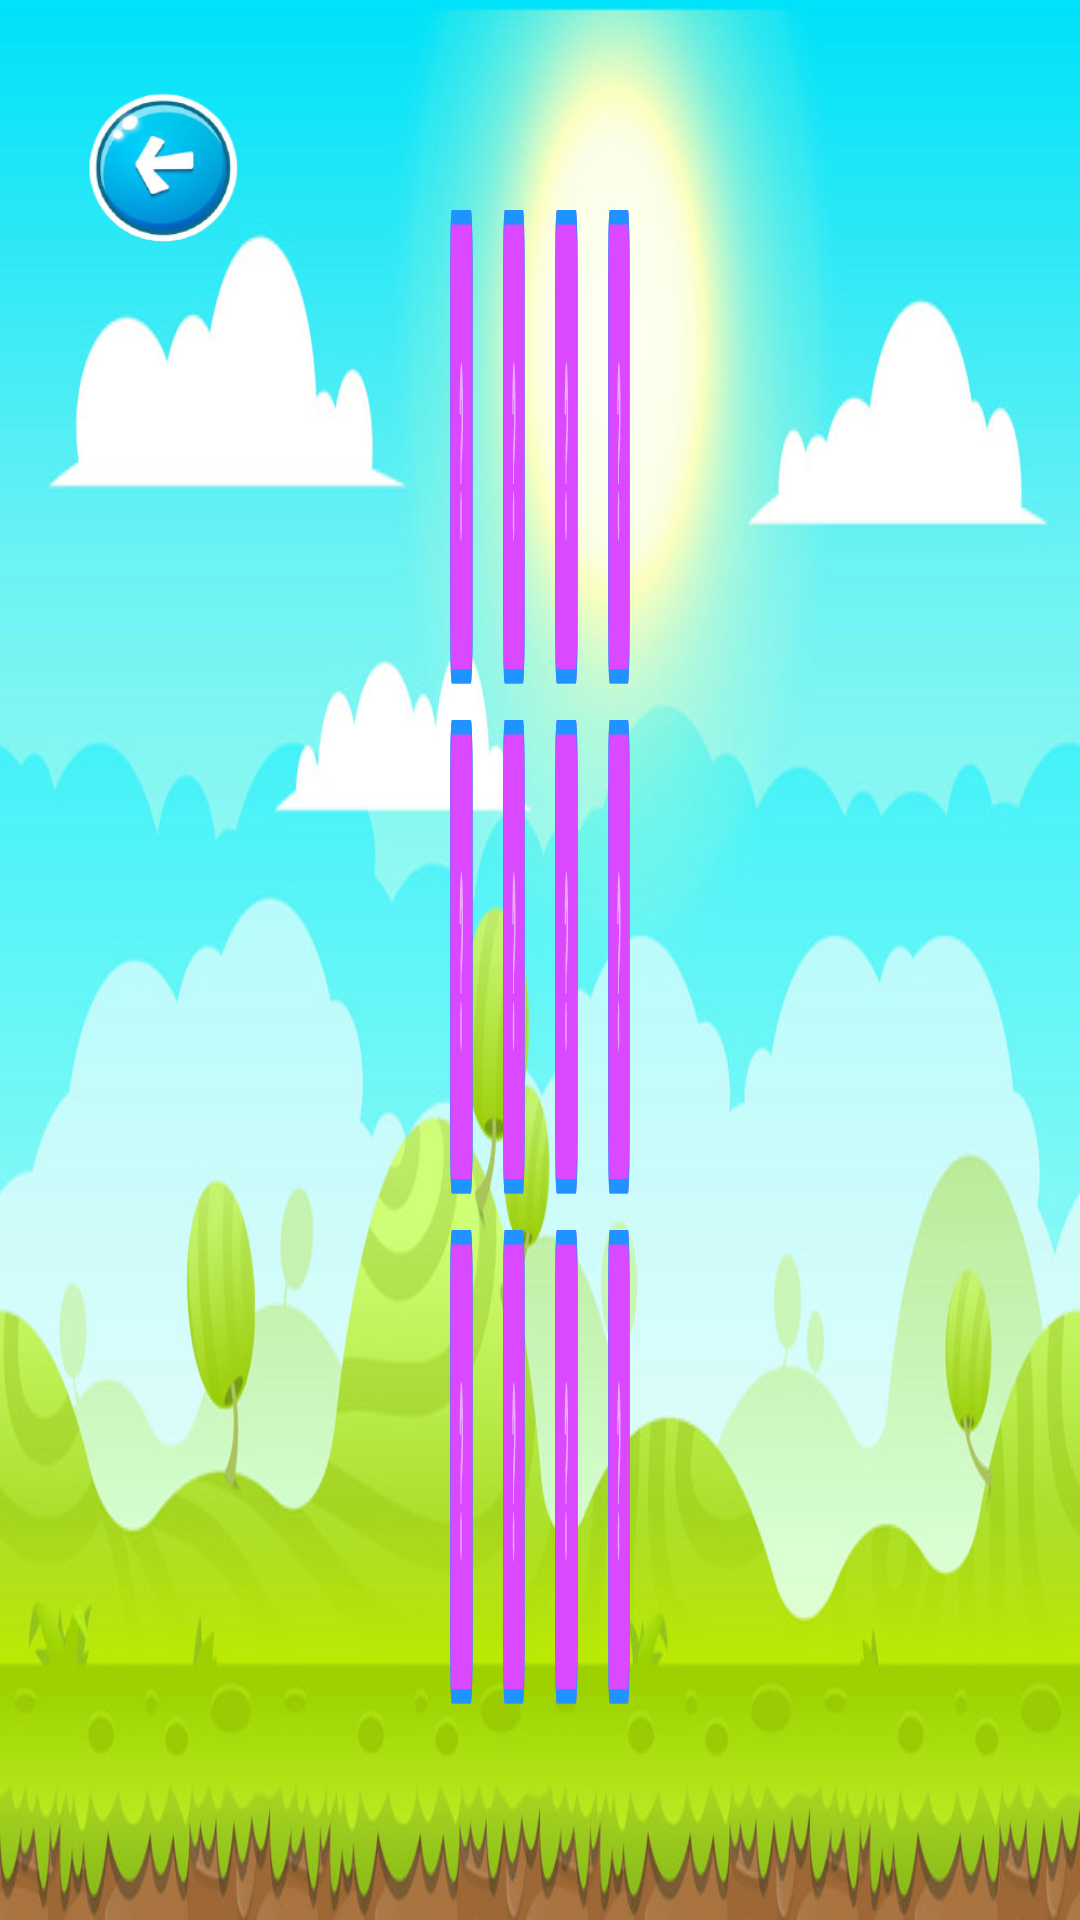

Where to tap for icons on this 1080px×1920px app screen, as (x=x, y=y):
back: (x=165, y=165)
